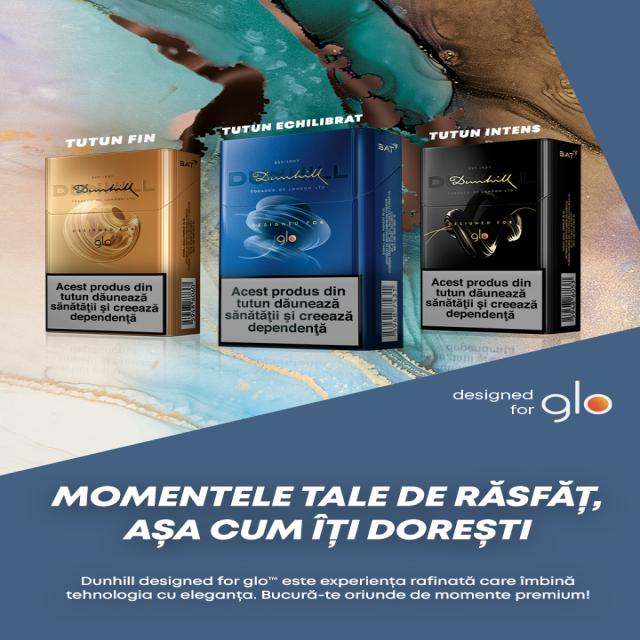dunhill: (218, 120, 417, 358), (390, 116, 600, 337), (50, 144, 200, 349)
